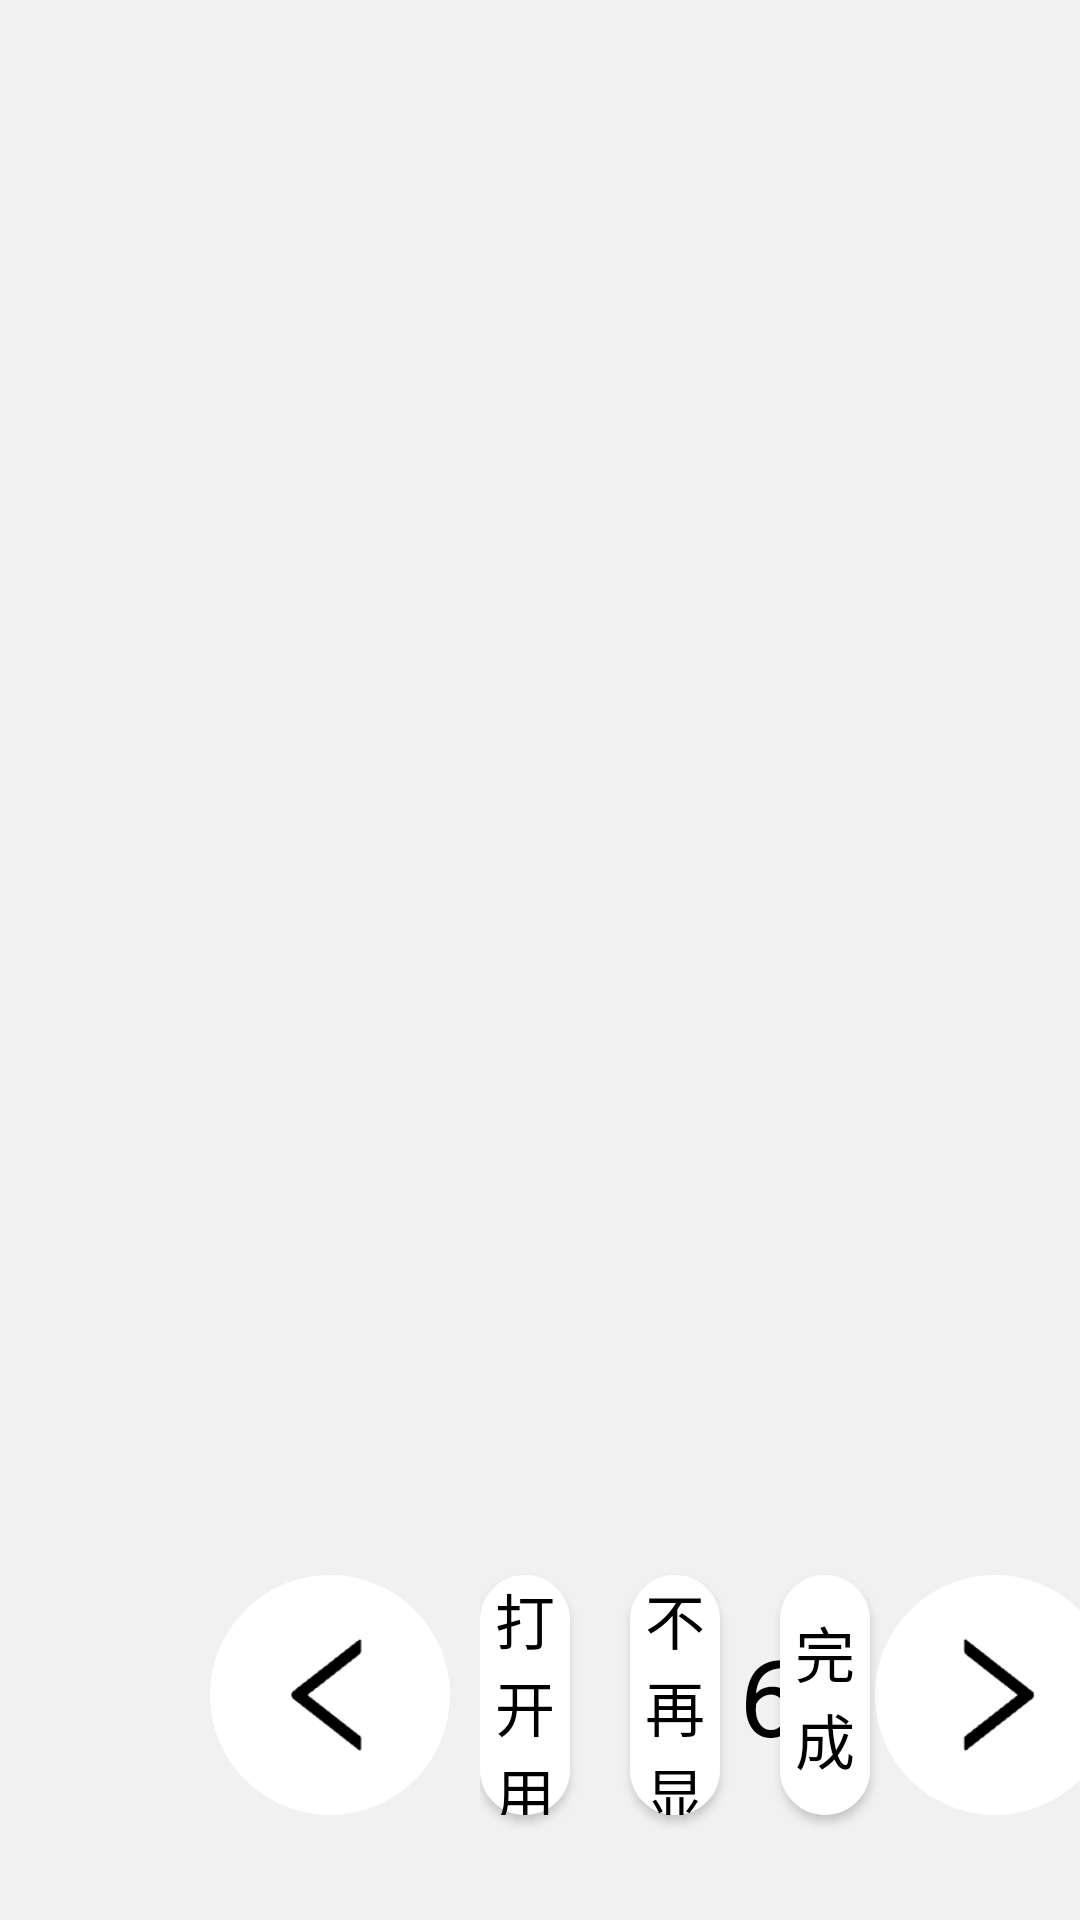

Named icons in this screenshot (1080x1920) and their bounding boxes, {"x1": x1, "y1": y1, "x2": x2, "y2": y2}:
left: {"x1": 210, "y1": 1575, "x2": 450, "y2": 1815}
